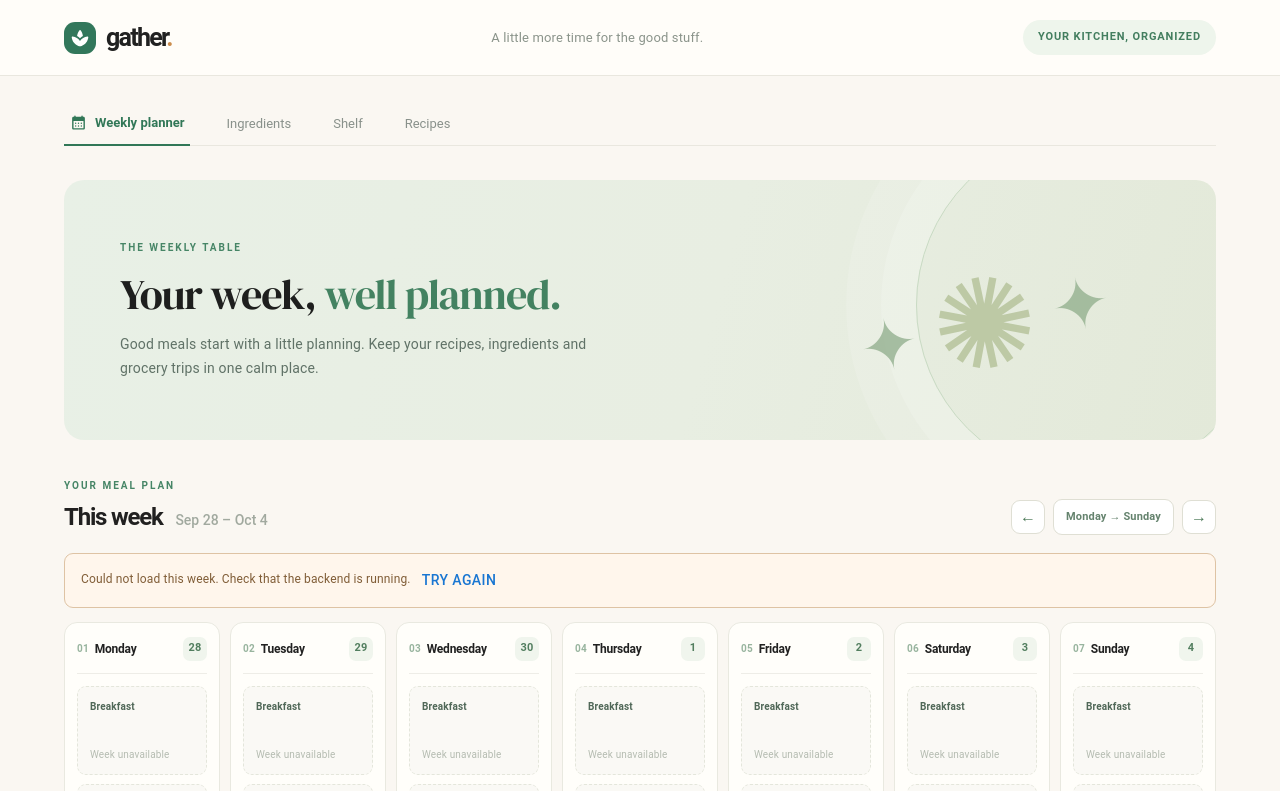
weekly meal planner › shows an actionable error when the catalog cannot load
Click the button "Ingredients". click: [259, 124]
box: [220,102,297,146]
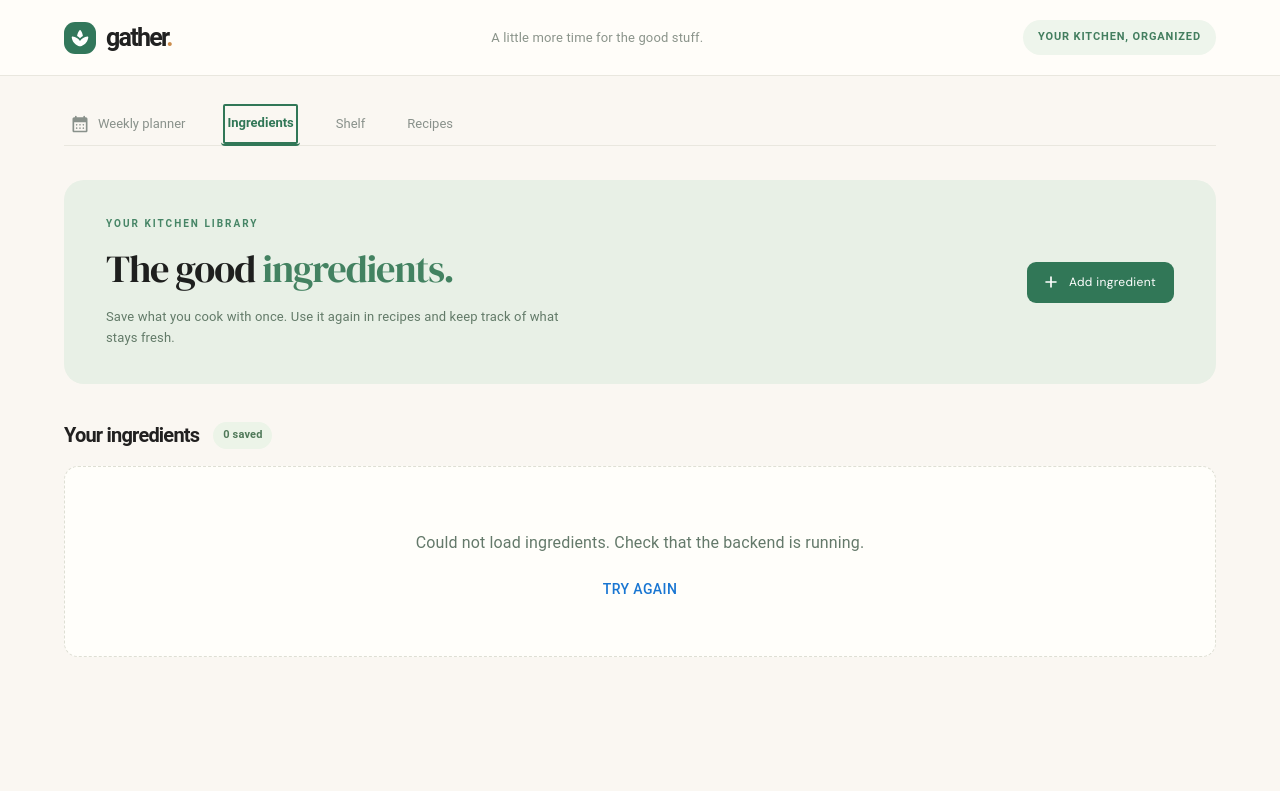
Expected: the button "Try again" is shown, [595,572,685,608]
Expected: the message shows "Could not load ingredients", [416,534,864,552]
